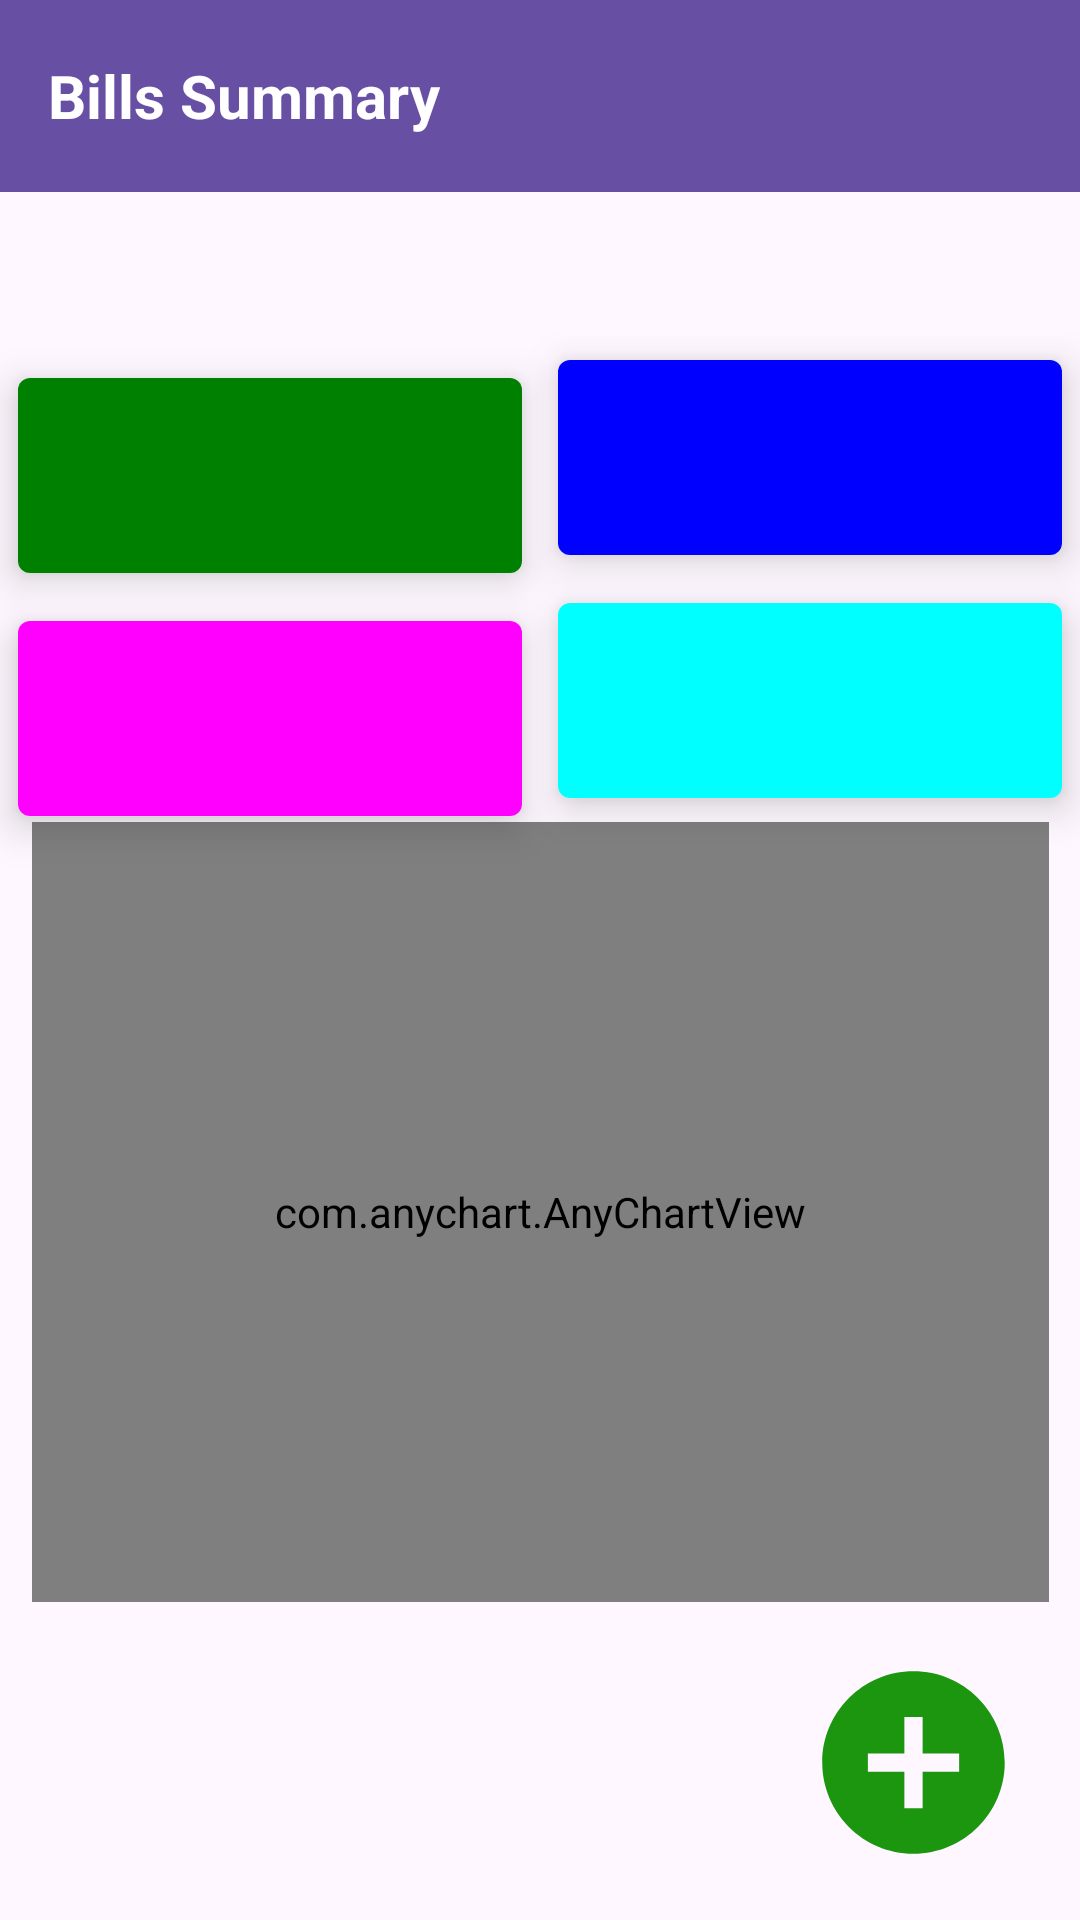

Screen size 1080*1920. Icon name, then its center in pixels as point (x, y):
add circle: point (913, 1762)
